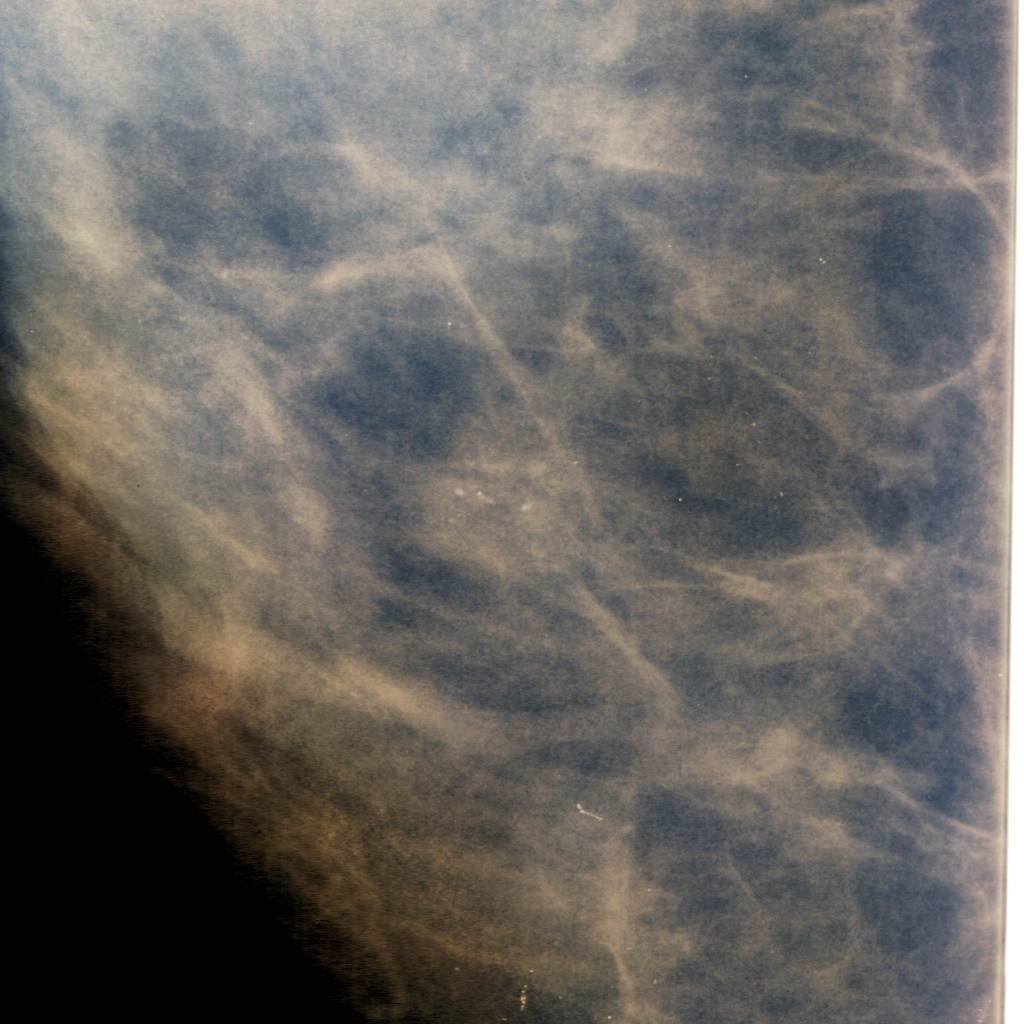tumor: (410, 449, 614, 575)
